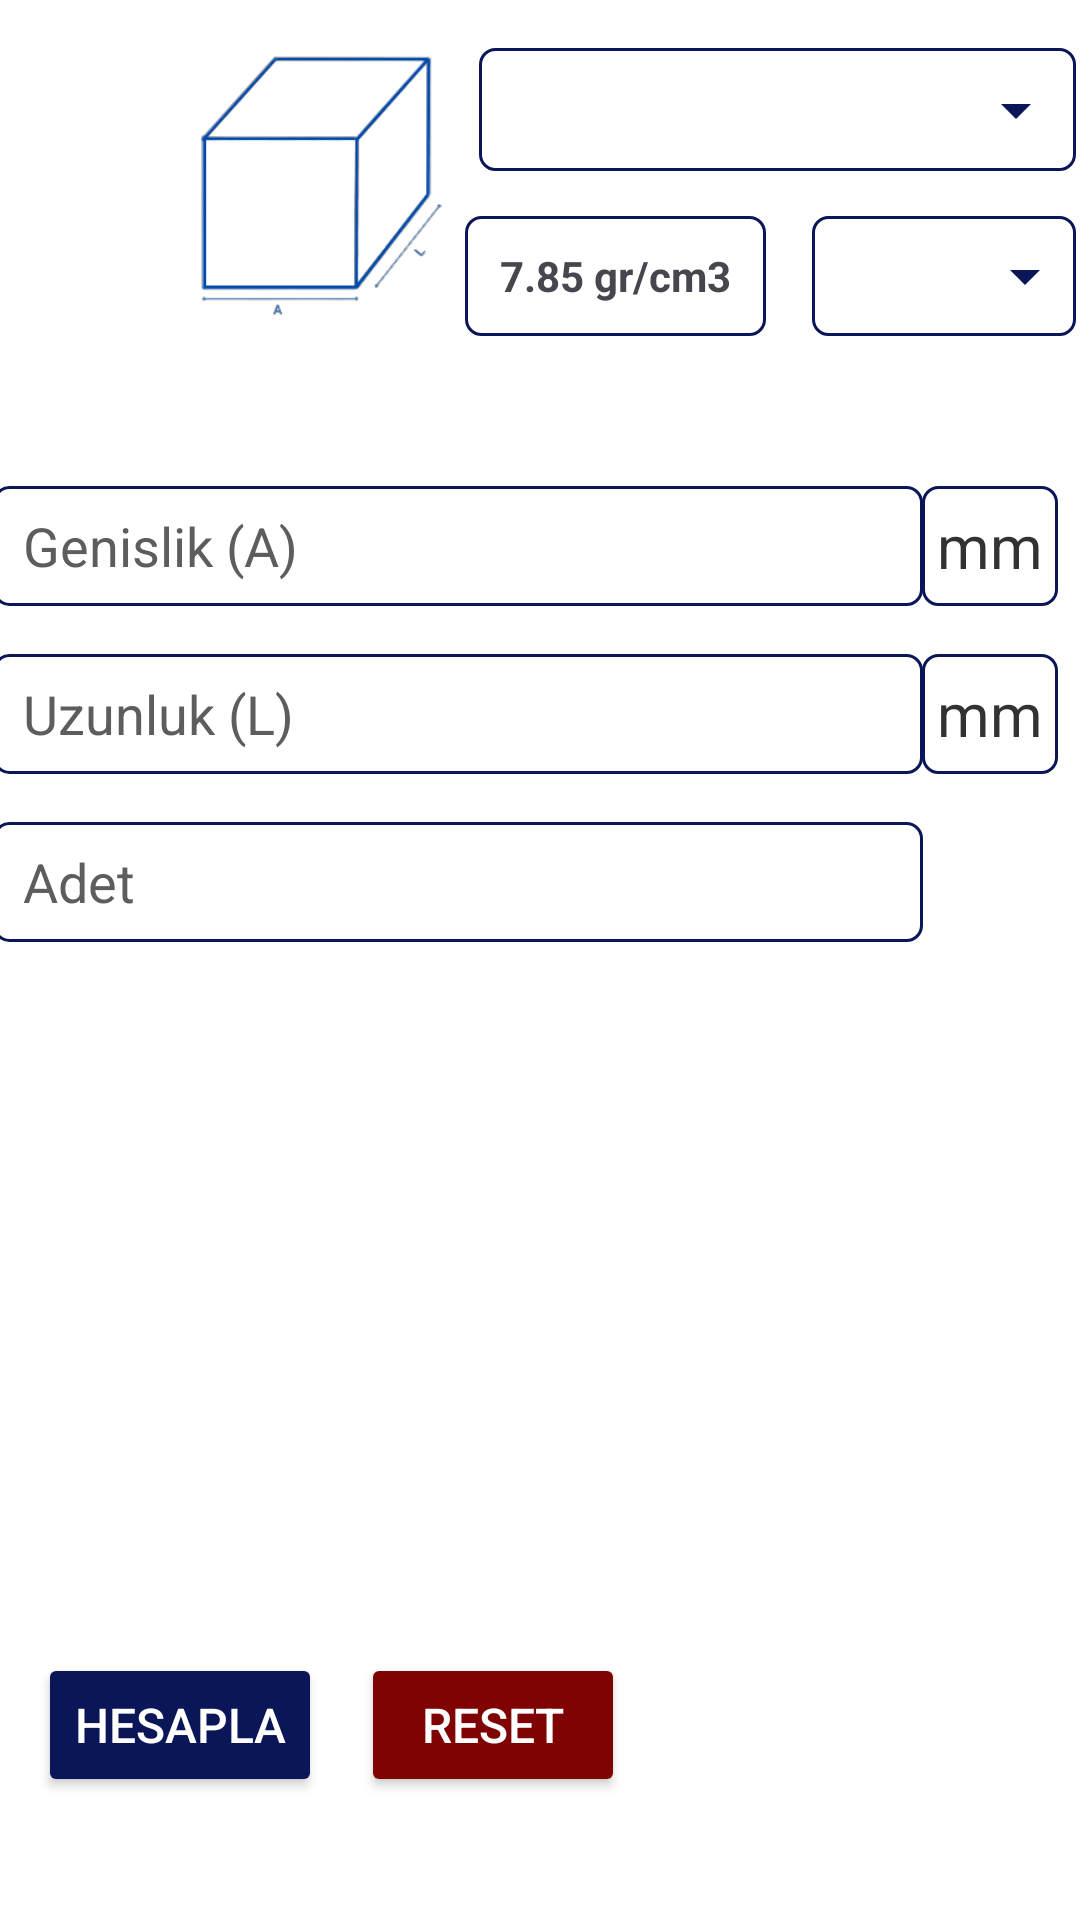

Point at icon controls on the screen. Image size 1080px x 1920px, points as (x,y).
kare demiric: (366,185)
